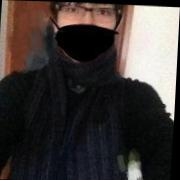WRONG: (53, 2, 122, 65)
